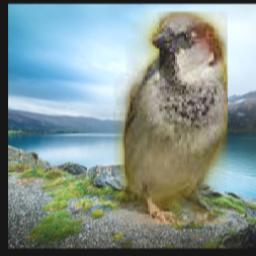Sparrow: (114, 12, 229, 225)
